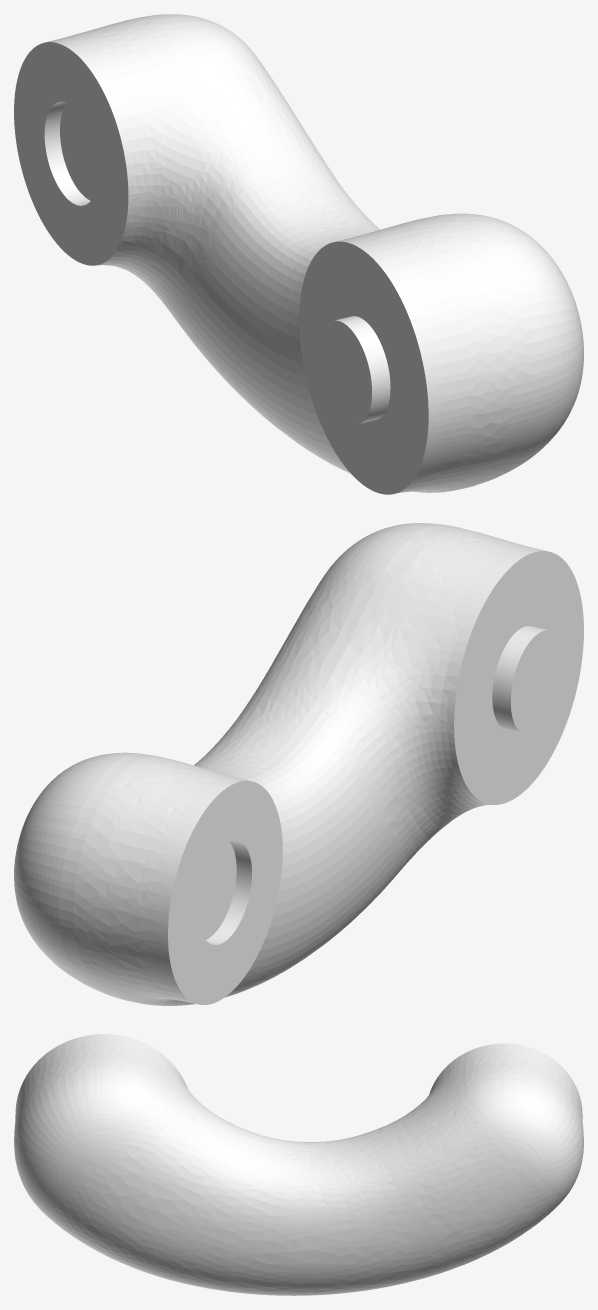
The model's file is j1Starm.dae.
The picture shows the model from 3 angles, top to bottom: view 1: azimuth 30°, elevation 25°; view 2: azimuth 150°, elevation 25°; view 3: azimuth 270°, elevation 25°; orthographic projection. The views are drawn at different scales.
Parts seen in each view (by area): view 1: tmp_export_j1Starm; view 2: tmp_export_j1Starm; view 3: tmp_export_j1Starm.
Boxes of the visible parts, x1,y1,x2,y2 form: tmp_export_j1Starm: (14, 14, 583, 494); tmp_export_j1Starm: (14, 523, 583, 1005); tmp_export_j1Starm: (14, 1034, 583, 1295).
Size of the model in its own units: 0.0714 by 0.235 by 0.0988.
1 material, 1 textured.
